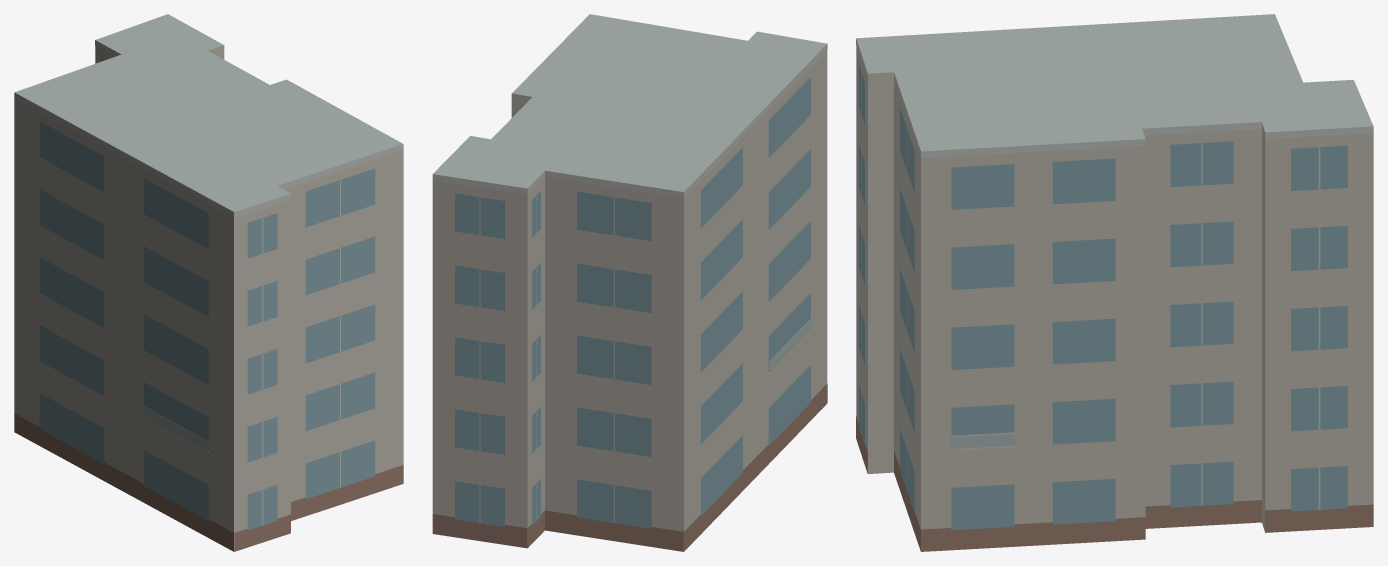
Rendered from survey-upis-33017849.glb.
The picture shows the model from 3 angles, left to right: view 1: azimuth 30°, elevation 25°; view 2: azimuth 150°, elevation 25°; view 3: azimuth 270°, elevation 25°; orthographic projection. The views are drawn at different scales.
Visible parts, largest first — view 1: survey-upis-33017849.tmp; view 2: survey-upis-33017849.tmp; view 3: survey-upis-33017849.tmp.
Boxes of the visible parts, <box> form: survey-upis-33017849.tmp: <box>14,14,403,551</box>; survey-upis-33017849.tmp: <box>432,14,827,551</box>; survey-upis-33017849.tmp: <box>856,14,1373,551</box>.
Bounding box in the file's own units: 10.5 × 14.25 × 16.7.
